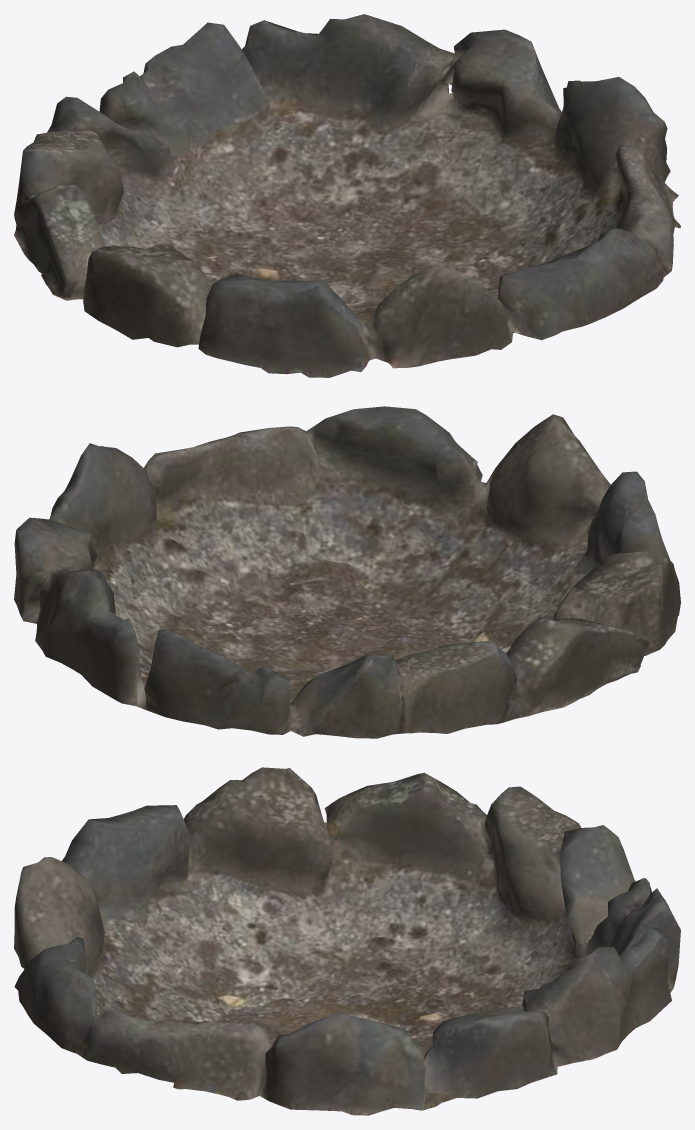
3 renders of one model, top to bottom at view 1: azimuth 30°, elevation 25°; view 2: azimuth 150°, elevation 25°; view 3: azimuth 270°, elevation 25°, orthographic.
Visible parts, largest first — view 1: stone_fire_pit; view 2: stone_fire_pit; view 3: stone_fire_pit.
Boxes of the visible parts, left/top/right/bottom form: stone_fire_pit: left=14, top=14, right=680, bottom=377; stone_fire_pit: left=14, top=406, right=680, bottom=738; stone_fire_pit: left=14, top=767, right=680, bottom=1115.
Size of the model in its own units: 1.45 by 0.3883 by 1.43.
1 material, 1 textured.
